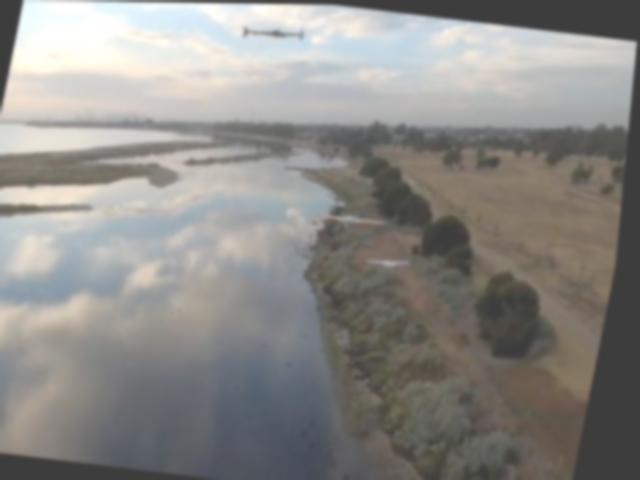uav: (317, 203, 391, 234), (239, 14, 308, 47), (369, 248, 418, 271)
